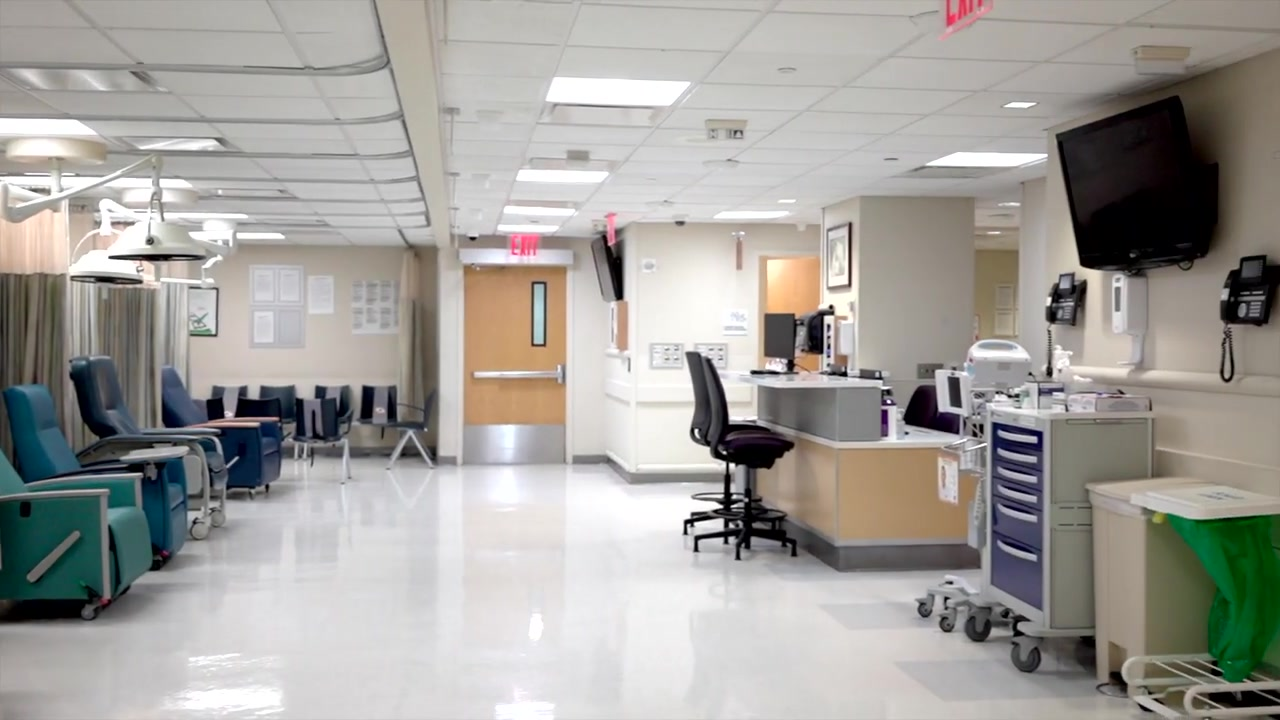TV: (1052, 95, 1218, 272), (590, 233, 623, 302)
chair: (693, 351, 797, 561), (683, 349, 771, 536), (296, 398, 352, 484), (385, 388, 439, 470), (903, 384, 962, 435), (257, 384, 295, 459), (234, 397, 291, 446), (312, 384, 351, 435), (359, 384, 397, 426), (210, 384, 249, 417), (205, 397, 227, 420)
computer: (764, 313, 797, 362)
counter: (740, 368, 986, 572)
countertop: (740, 368, 888, 389), (881, 423, 979, 447)
curtain: (69, 205, 155, 422), (1, 184, 64, 430), (397, 246, 428, 423), (159, 258, 189, 380)
dispenser: (1109, 268, 1150, 374), (838, 320, 855, 370)
handle: (998, 503, 1041, 525), (997, 482, 1040, 503), (997, 540, 1037, 561), (997, 466, 1037, 485), (995, 446, 1038, 463), (996, 428, 1038, 443)
medical_drawer: (987, 399, 1153, 662)
push_latch: (473, 369, 564, 380)
sofa: (2, 383, 188, 571), (68, 354, 228, 541), (1, 435, 154, 624), (161, 365, 282, 500)
surgical_light: (102, 214, 213, 268), (68, 246, 158, 291)
telephone: (1211, 251, 1280, 384), (1036, 272, 1090, 380)
utility_cart: (1128, 491, 1280, 720)
waste_bin: (1083, 479, 1212, 689), (1137, 490, 1280, 665)
